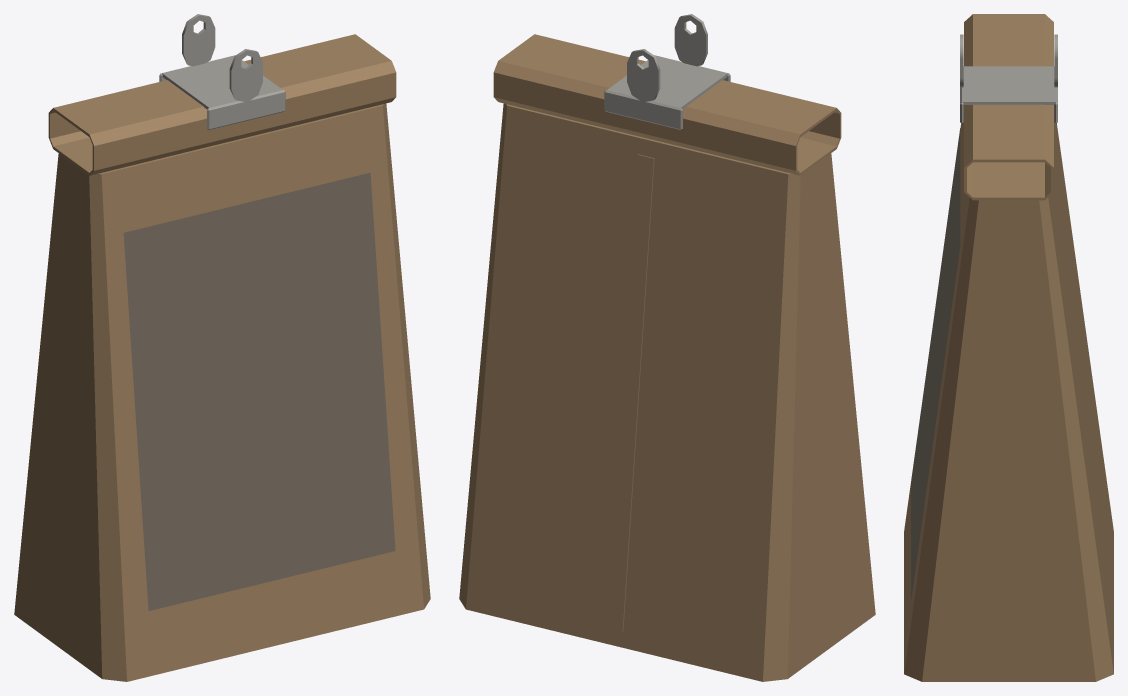
File: coffee-bag-bd345575fb14.glb
3 renders of one model, left to right at view 1: azimuth 30°, elevation 25°; view 2: azimuth 150°, elevation 25°; view 3: azimuth 270°, elevation 25°, orthographic.
Visible parts, largest first — view 1: paper-kraft, cover-print, brushed; view 2: paper-kraft, brushed; view 3: paper-kraft, cover-print, brushed.
Boxes of the visible parts, x1,y1,x2,y2 form: paper-kraft: [14, 34, 430, 681]; cover-print: [123, 172, 395, 610]; brushed: [159, 14, 285, 130]; paper-kraft: [459, 34, 875, 681]; brushed: [604, 14, 730, 130]; paper-kraft: [904, 14, 1113, 681]; cover-print: [911, 128, 960, 600]; brushed: [960, 34, 1057, 123].
Bounding box in the file's own units: 0.125 × 0.209 × 0.07.
